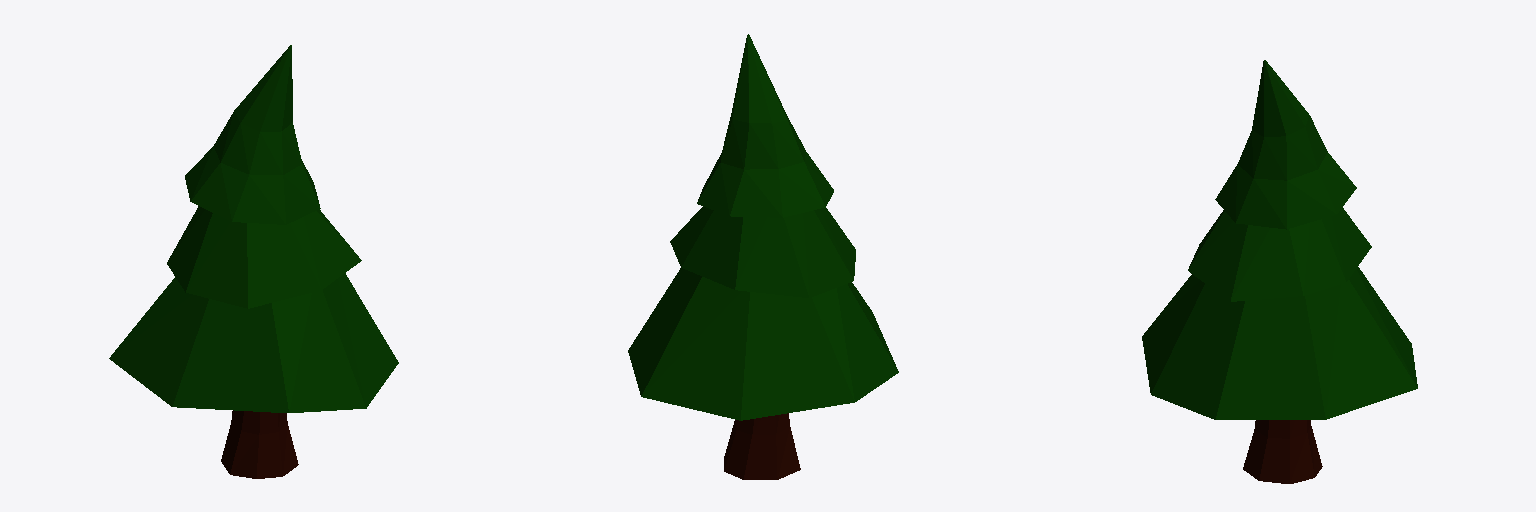
File: PineTree_Adult.obj
3 renders of one model, left to right at view 1: azimuth 30°, elevation 25°; view 2: azimuth 150°, elevation 25°; view 3: azimuth 270°, elevation 25°, orthographic.
Parts seen in each view (by area): view 1: Cylinder; view 2: Cylinder; view 3: Cylinder.
Boxes of the visible parts, box(x1,y1,x2,y2) form: Cylinder: box(109, 45, 398, 478); Cylinder: box(628, 34, 898, 479); Cylinder: box(1142, 60, 1417, 483).
Size of the model in its own units: 3.47 by 5.91 by 3.54.